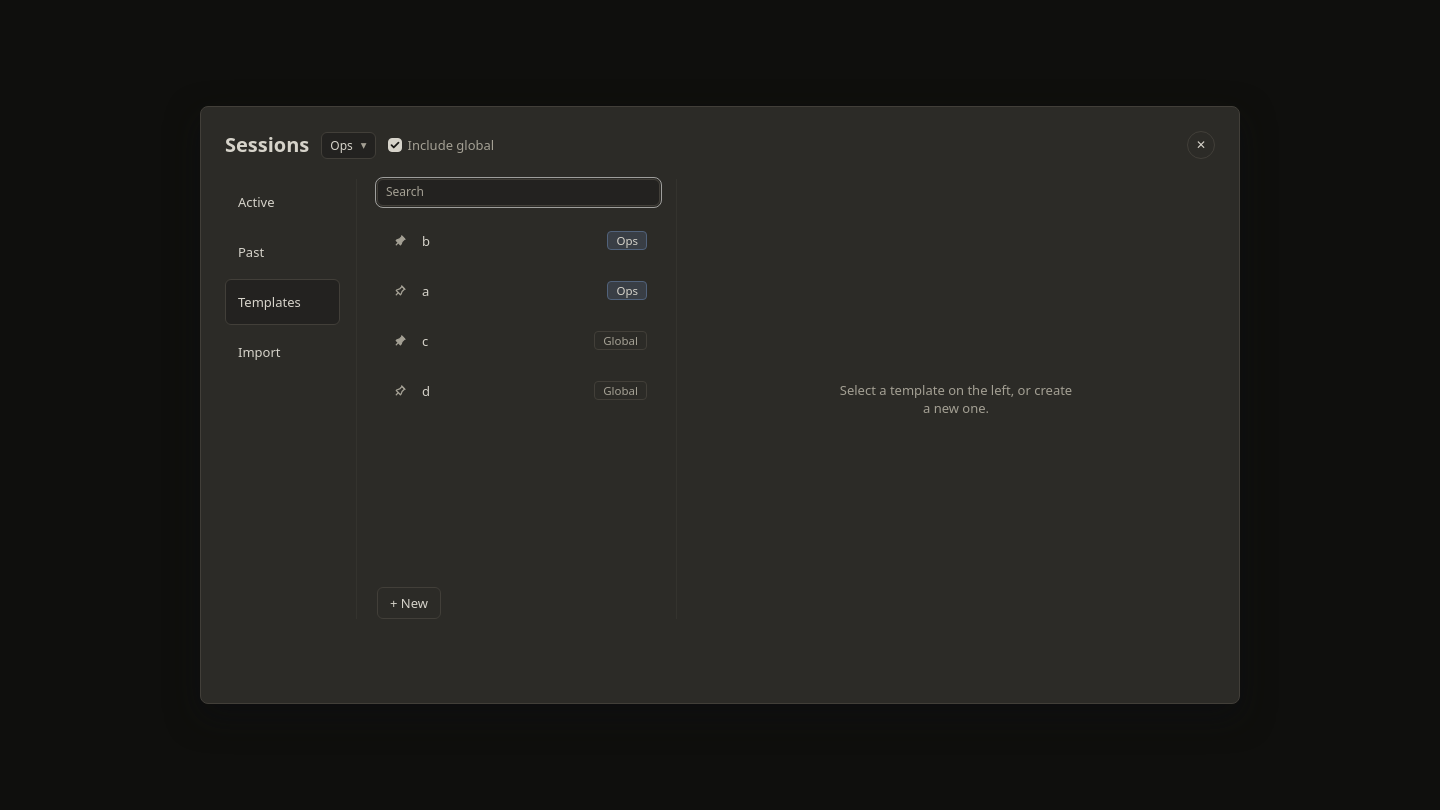
Scenario: TemplatesDialog — favorites › a refused pin shows the store copy in the message slot and keeps the pin
The image size is (1440, 810).
Click the button with test id "template-favorite-a". click: x=400, y=291
box: [390,281,410,301]
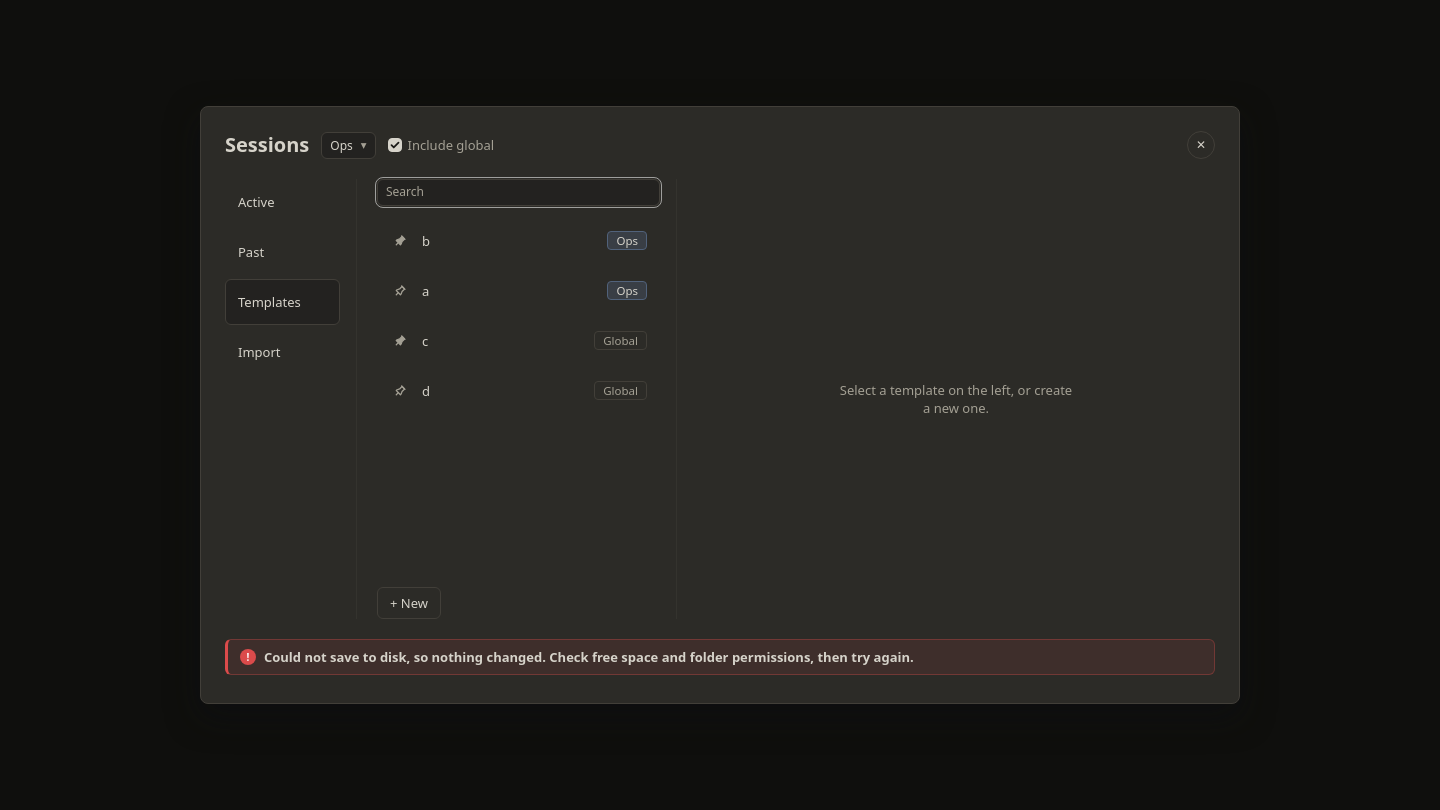
Now the message with test id "template-error" shows "Could not save to disk, so nothing changed. Check free space and folder permissions, then try again.", box [264,648,914,666]
